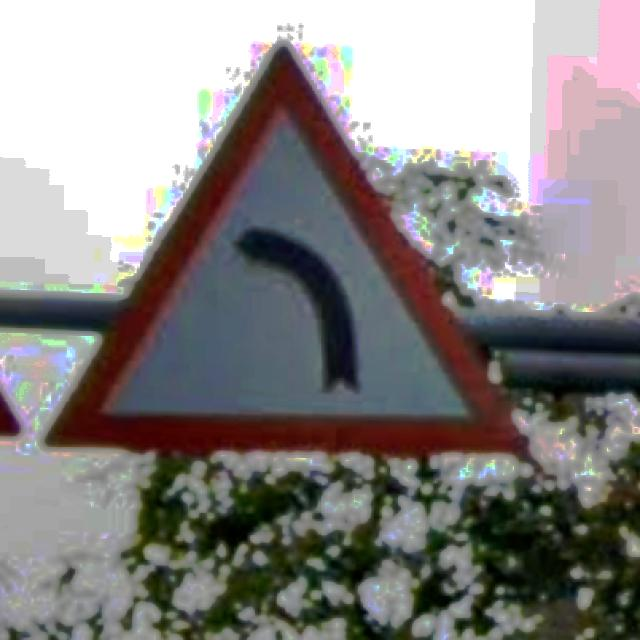leftbend: (43, 44, 529, 458)
